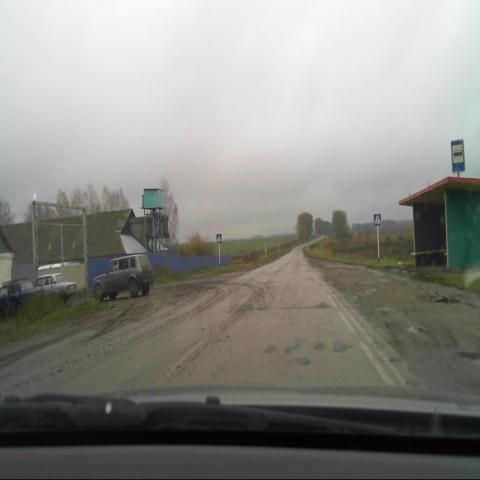5_16: (451, 139, 465, 172)
5_19_1: (374, 212, 382, 225), (216, 233, 222, 244)
